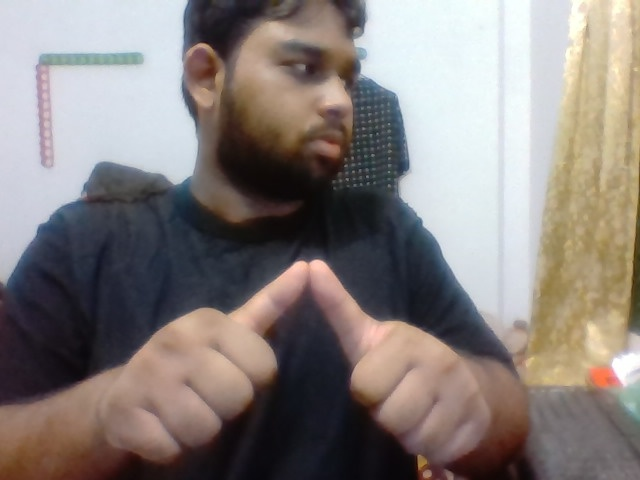A: (87, 232, 516, 476)
